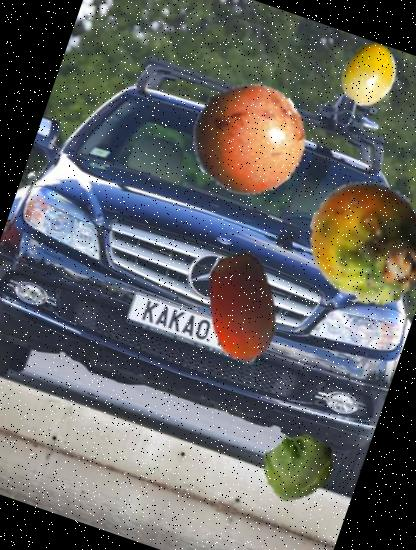Cactus: (291, 164, 416, 320)
Granadilla: (175, 65, 321, 211)
Hazelnut: (174, 240, 310, 377)
Kohlrabi: (252, 419, 344, 510)
Maracuja: (328, 33, 411, 116)
